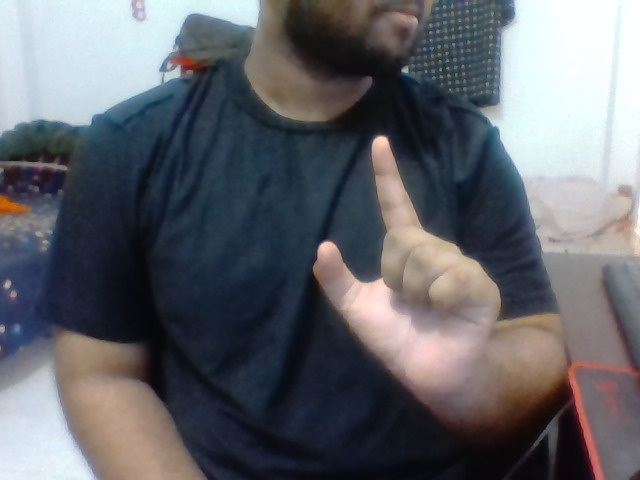J: (304, 126, 513, 410)
